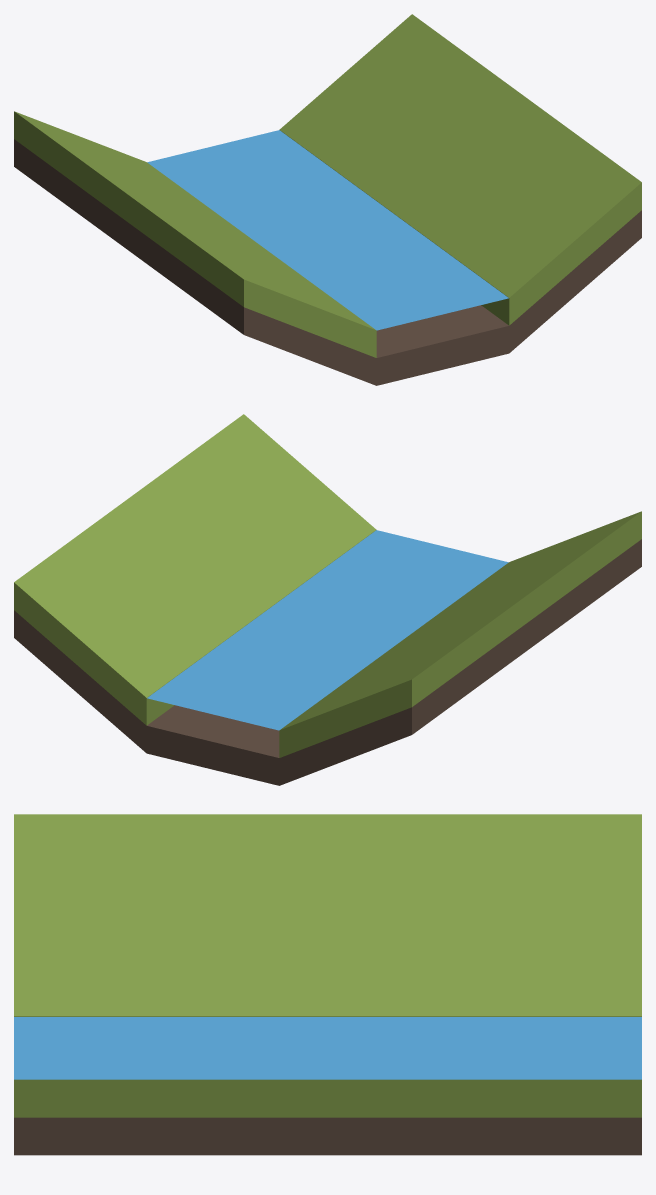
File: water-tile-valley.fbx
The picture shows the model from 3 angles, top to bottom: view 1: azimuth 30°, elevation 25°; view 2: azimuth 150°, elevation 25°; view 3: azimuth 270°, elevation 25°; orthographic projection. The views are drawn at different scales.
Visible parts, largest first — view 1: water-tile-valley; view 2: water-tile-valley; view 3: water-tile-valley.
Part boxes in pixels (x1,y1,x2,y2): water-tile-valley: [14, 14, 641, 385]; water-tile-valley: [14, 414, 641, 785]; water-tile-valley: [14, 814, 641, 1155].
Bounding box in the file's own units: 3000 × 1000 × 3000.
